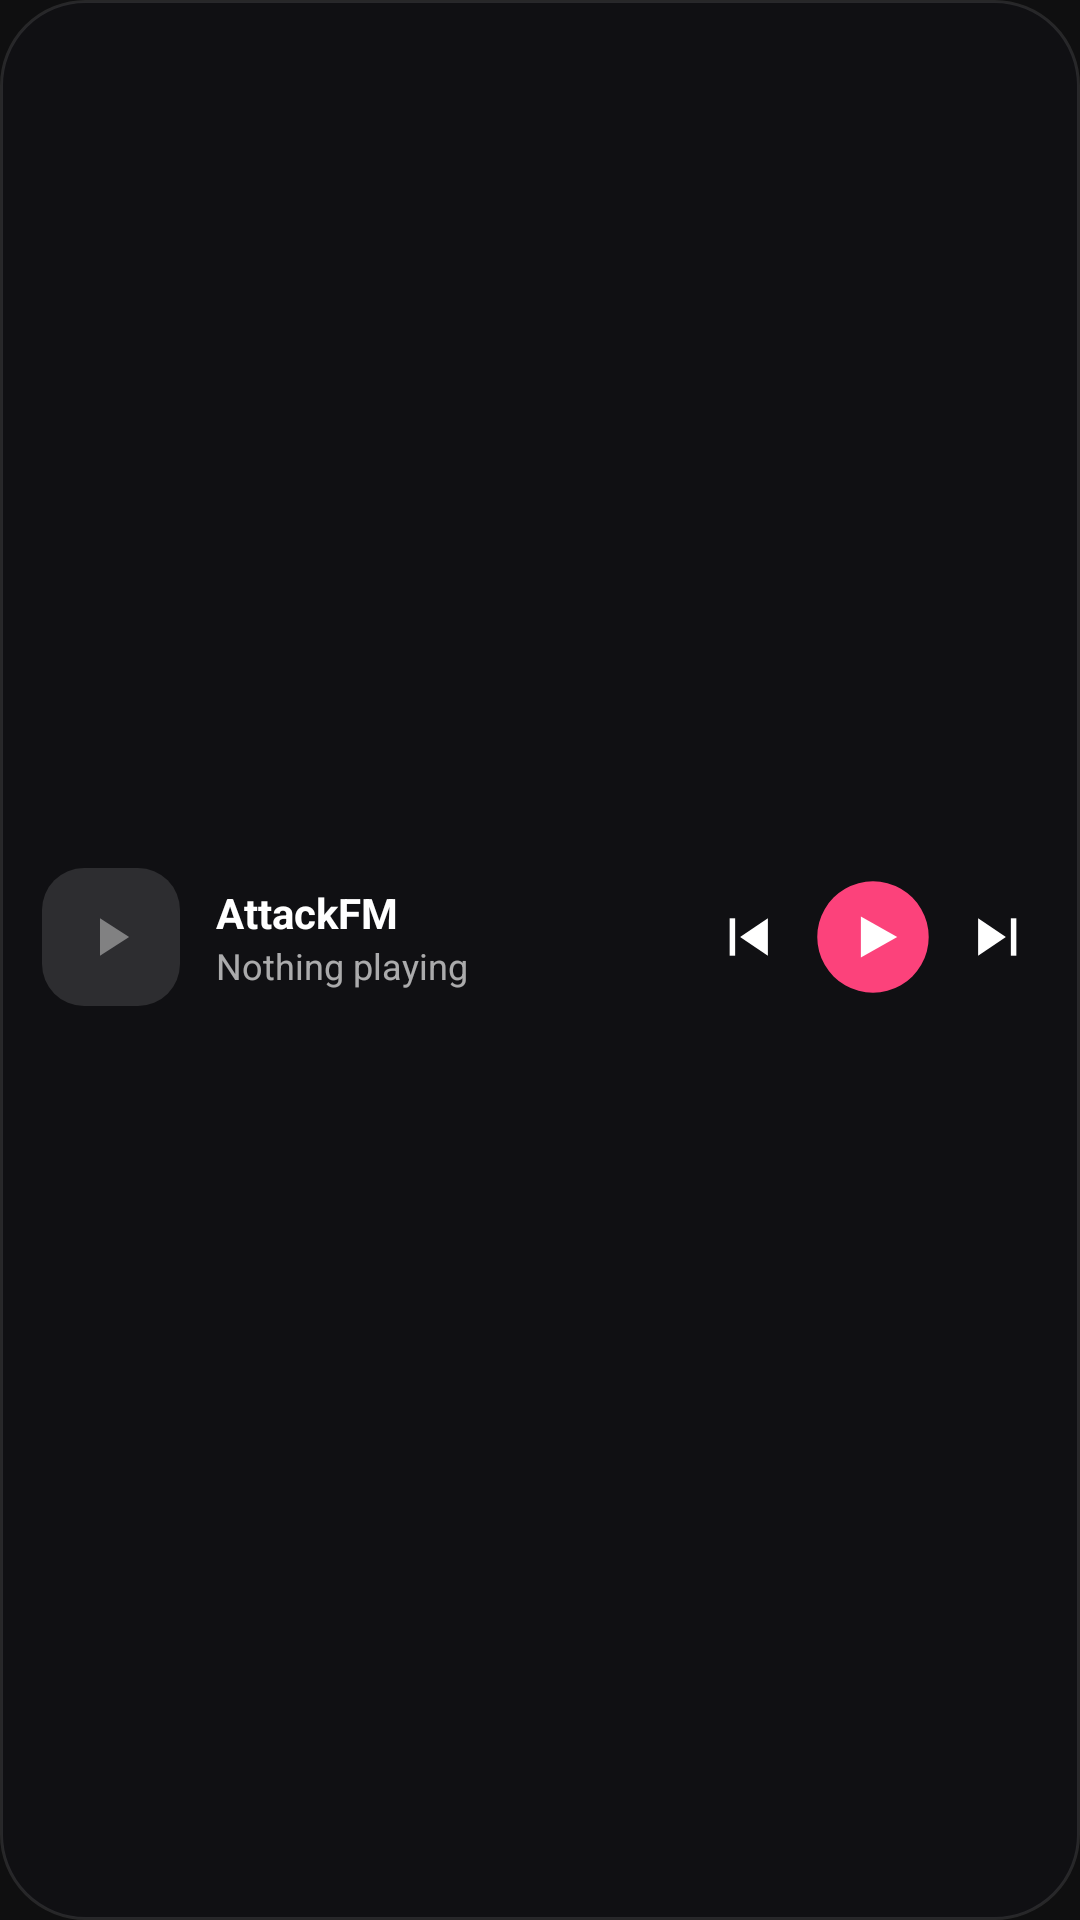

Point at icon controls on the screen. Image size 1080 x 1920, points as [x,y].
Next: [997,937]
Play or pause: [873,937]
Previous: [748,937]
